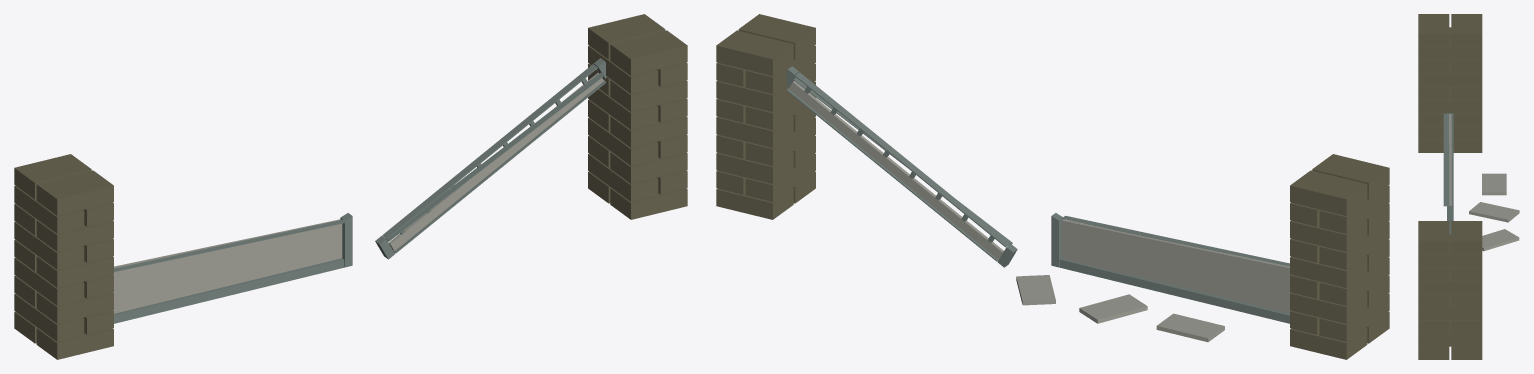
The model's file is SM_PuertaVehiculos_v0_TuboChapa_e2_MuyDanado_LOD0.fbx.
3 views of the same model, side by side, from view 1: azimuth 30°, elevation 25°; view 2: azimuth 150°, elevation 25°; view 3: azimuth 270°, elevation 25° (orthographic). The views are drawn at different scales.
Visible parts, largest first — view 1: SM_bloques.puerta_estados_v2_LOD0, Hoja_O, Hoja_E; view 2: SM_bloques.puerta_estados_v2_LOD0, Hoja_O, Hoja_E; view 3: SM_bloques.puerta_estados_v2_LOD0, Hoja_O.
Boxes of the visible parts, <box> form: SM_bloques.puerta_estados_v2_LOD0: <box>14,14,687,359</box>; Hoja_O: <box>113,213,352,323</box>; Hoja_E: <box>375,58,607,259</box>; SM_bloques.puerta_estados_v2_LOD0: <box>716,14,1389,359</box>; Hoja_O: <box>1051,213,1290,323</box>; Hoja_E: <box>786,66,1017,267</box>; SM_bloques.puerta_estados_v2_LOD0: <box>1418,14,1519,359</box>; Hoja_O: <box>1443,113,1453,234</box>.
Size of the model in its own units: 9.78 by 2.45 by 1.84.
